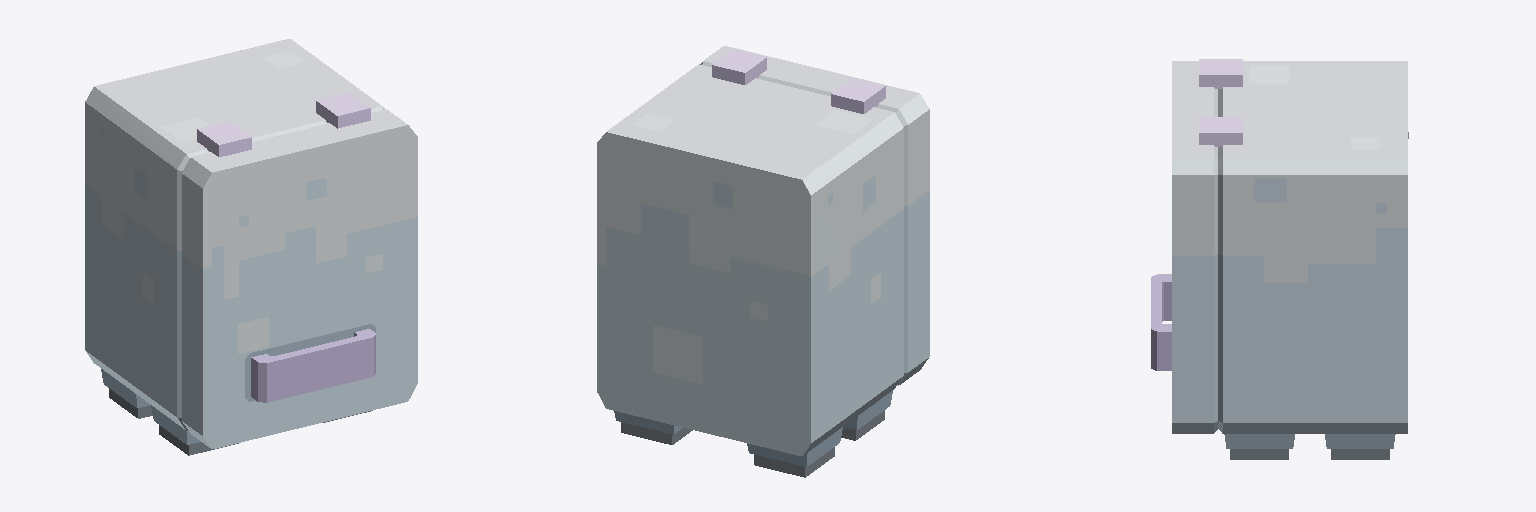
The picture shows the model from 3 angles: view 1: azimuth 30°, elevation 25°; view 2: azimuth 150°, elevation 25°; view 3: azimuth 270°, elevation 25°; orthographic projection.
Parts seen in each view (by area): view 1: pvpd_ChillyIcemaker_02_Door, pvpd_ChillyIcemaker_02; view 2: pvpd_ChillyIcemaker_02, pvpd_ChillyIcemaker_02_Door; view 3: pvpd_ChillyIcemaker_02, pvpd_ChillyIcemaker_02_Door.
Boxes of the visible parts, box(x1,y1,x2,y2) form: pvpd_ChillyIcemaker_02_Door: box(182, 109, 417, 448); pvpd_ChillyIcemaker_02: box(85, 39, 384, 455); pvpd_ChillyIcemaker_02: box(597, 49, 903, 477); pvpd_ChillyIcemaker_02_Door: box(700, 46, 929, 385); pvpd_ChillyIcemaker_02: box(1199, 59, 1408, 459); pvpd_ChillyIcemaker_02_Door: box(1151, 61, 1217, 433).
Bounding box in the file's own units: 3.01 × 4.24 × 3.11.
1 materials, 1 textured.